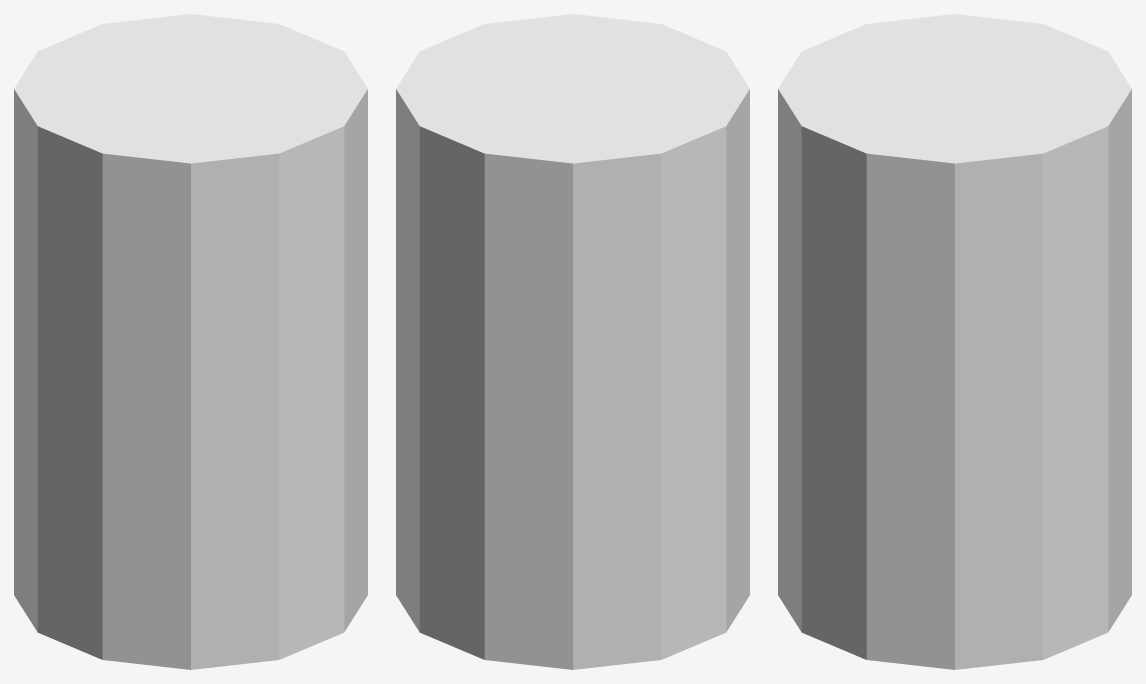
3 renders of one model, left to right at view 1: azimuth 30°, elevation 25°; view 2: azimuth 150°, elevation 25°; view 3: azimuth 270°, elevation 25°, orthographic.
Parts seen in each view (by area): view 1: cylinder; view 2: cylinder; view 3: cylinder.
Part boxes in pixels (left/top/right/bottom): cylinder: left=14, top=14, right=367, bottom=669; cylinder: left=396, top=14, right=749, bottom=669; cylinder: left=778, top=14, right=1131, bottom=669.
Size of the model in its own units: 0.6324 by 0.9984 by 0.6324.
Materials: 1 (1 with a texture image).
